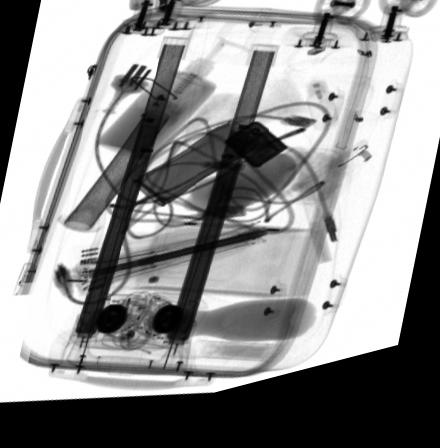Lighter: (222, 134, 287, 181)
